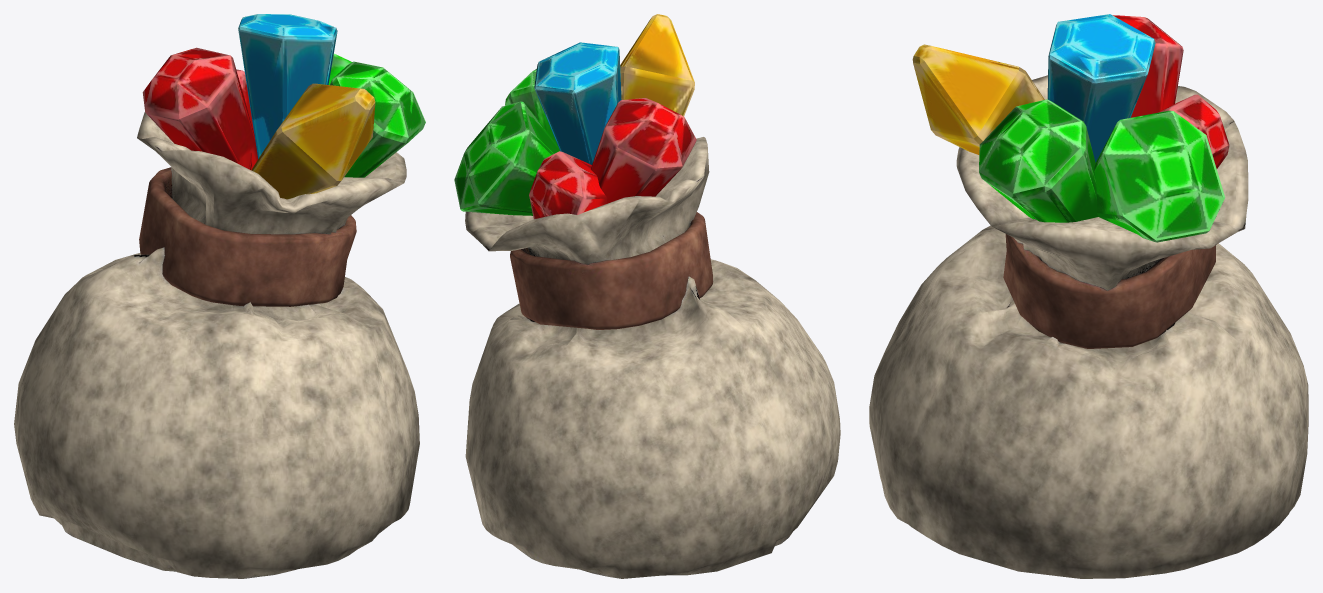
The model's file is bag.glb.
3 views of the same model, side by side, from view 1: azimuth 30°, elevation 25°; view 2: azimuth 150°, elevation 25°; view 3: azimuth 270°, elevation 25° (orthographic). The views are drawn at different scales.
Visible parts, largest first — view 1: loot_bag; view 2: loot_bag; view 3: loot_bag.
Part boxes in pixels (left/top/right/bottom): loot_bag: left=14, top=14, right=425, bottom=578; loot_bag: left=454, top=14, right=840, bottom=578; loot_bag: left=869, top=14, right=1308, bottom=578.
Bounding box in the file's own units: 1.98 × 2.49 × 1.95.
1 material, 1 textured.
